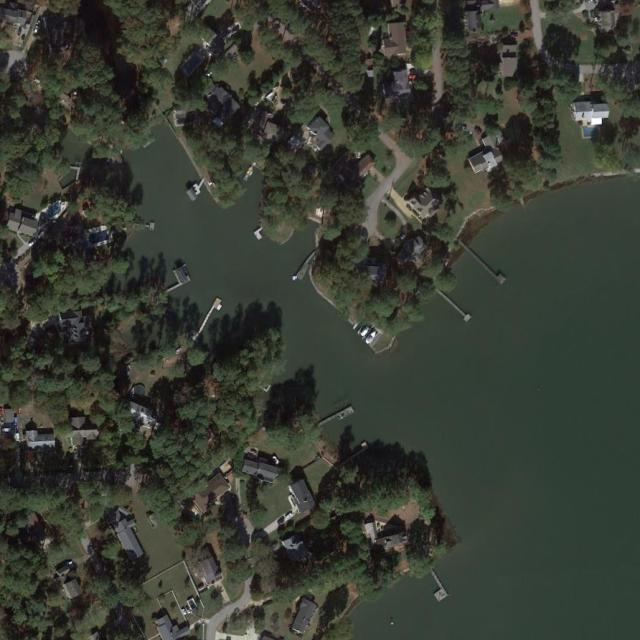ship: (363, 328, 380, 347), (358, 323, 372, 339)
small-vehicle: (271, 453, 283, 467), (181, 607, 188, 618), (185, 605, 192, 616), (34, 25, 39, 35)
